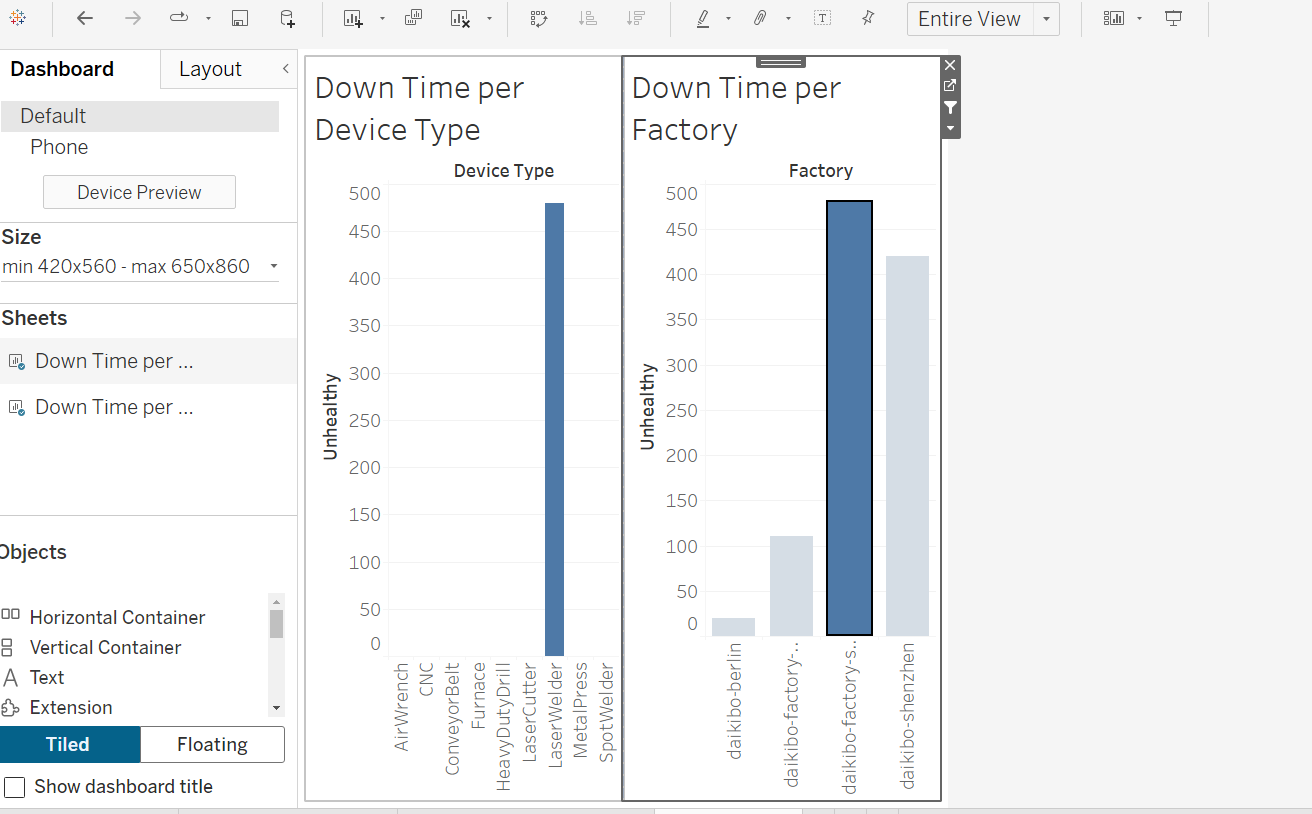

Layout of this report page (visuals, bound fields, positions):
{"tool":"tableau","page":{"name":"Dashboard 1","canvas":[650,860],"ordinal":0},"visuals":[{"type":"worksheet","title":"Down Time per Device Type","mark":"Automatic","rows":["Calculation_694398774809530368"],"cols":["deviceType"],"box":[8,9.1,317,841.9]},{"type":"worksheet","title":"Down Time per Factory","mark":"Automatic","rows":["Calculation_694398774809530368"],"cols":["factory"],"box":[325,9.1,317,841.9]}]}

Visuals, with their boxes on the page's 650x860 design canvas (x1, y1, x2, y2). These are canvas units, not pixel positions in the 1312x814 screenshot, which may show the page scaled, cropped or inside an application window:
"Down Time per Device Type" worksheet: Rect(8, 9, 325, 851)
"Down Time per Factory" worksheet: Rect(325, 9, 642, 851)
